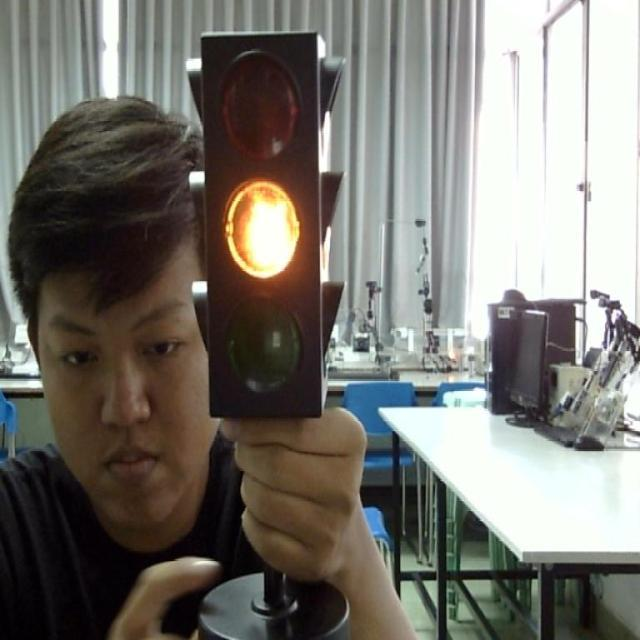yellow light: (220, 174, 314, 290)
